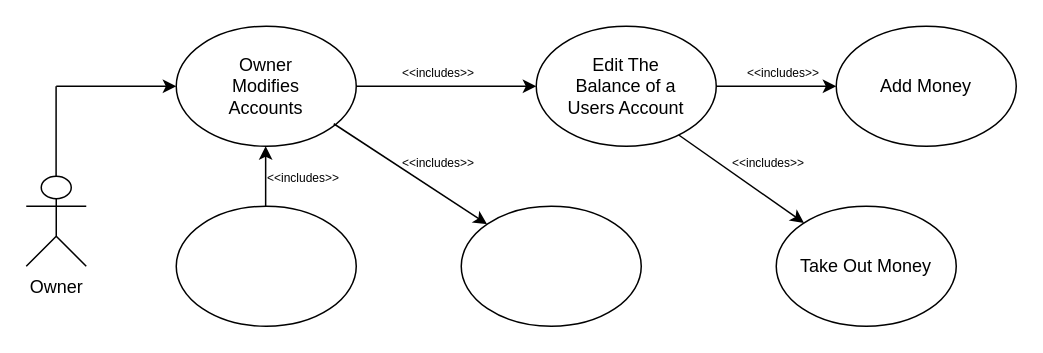
This 1043x353 diagram has some shape labels left out. Each missing label, with the centre of its shape:
"Change Account Type and/or Privilege's" belongs at pixel 265 265.
"Create/Delete Users" belongs at pixel 550 265.
